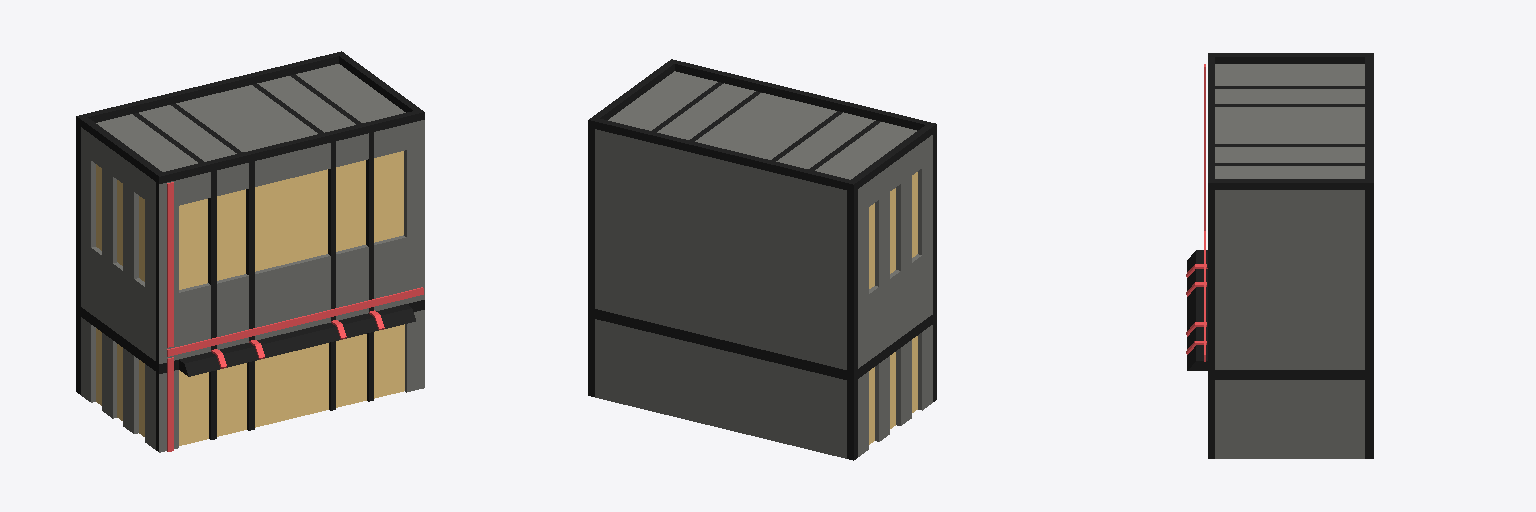
3 renders of one model, left to right at view 1: azimuth 30°, elevation 25°; view 2: azimuth 150°, elevation 25°; view 3: azimuth 270°, elevation 25°, orthographic.
Visible parts, largest first — view 1: Cube.003_Cube.002; view 2: Cube.003_Cube.002; view 3: Cube.003_Cube.002.
Boxes of the visible parts, x1=… form: Cube.003_Cube.002: x1=76, y1=51, x2=424, y2=452; Cube.003_Cube.002: x1=588, y1=59, x2=936, y2=460; Cube.003_Cube.002: x1=1186, y1=53, x2=1373, y2=458.
Bounding box in the file's own units: 11.3 × 11.23 × 6.9.
Materials: 1 (1 with a texture image).